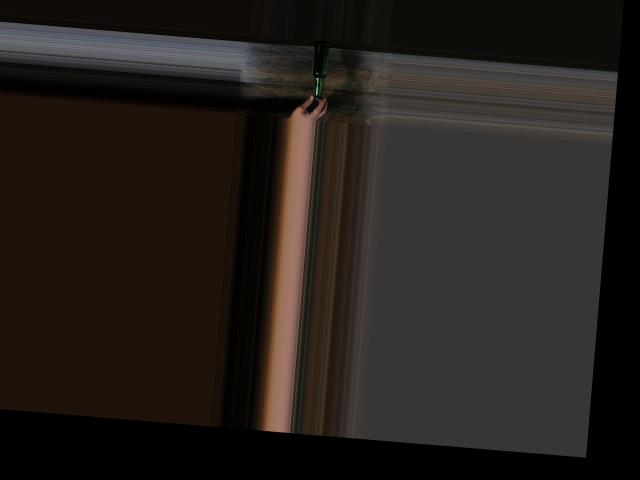beer: (310, 40, 330, 100)
